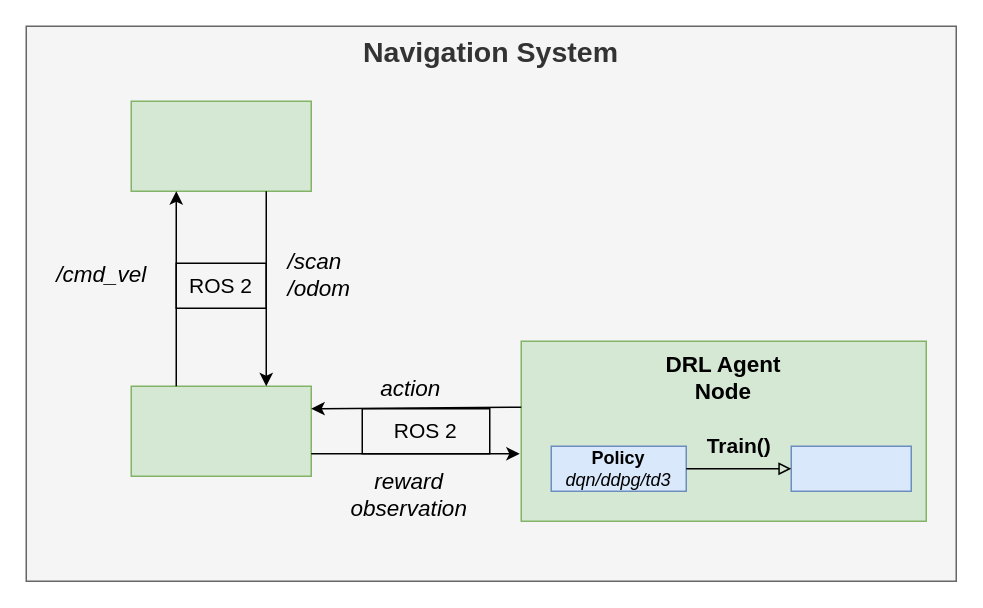
Some shapes in this 983 by 608 pixel diagram are drawn without their labels. The shapes that lost their labels are listed below. From the top down, each one's centre as x and y in pixels, then its label:
the point at 220,145: Gazebo | Physical Robot
the point at 220,430: DRL Environment Node
the point at 850,468: PyTorch
